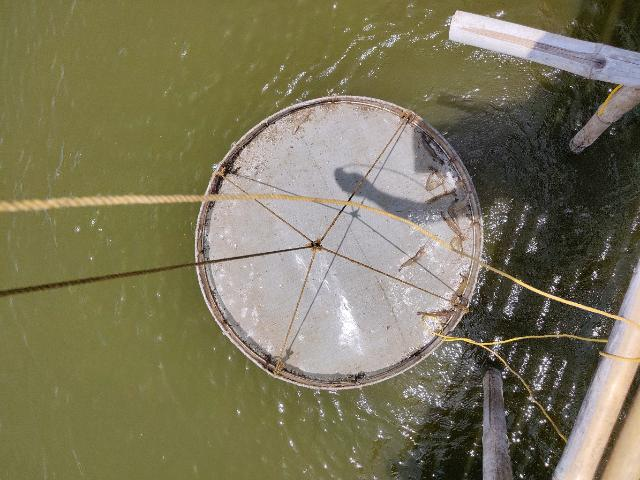shrimp: (419, 134, 445, 169), (440, 211, 466, 241), (399, 245, 426, 271), (426, 188, 456, 204), (447, 198, 461, 230), (425, 171, 442, 192), (416, 309, 456, 317), (450, 236, 463, 252)
